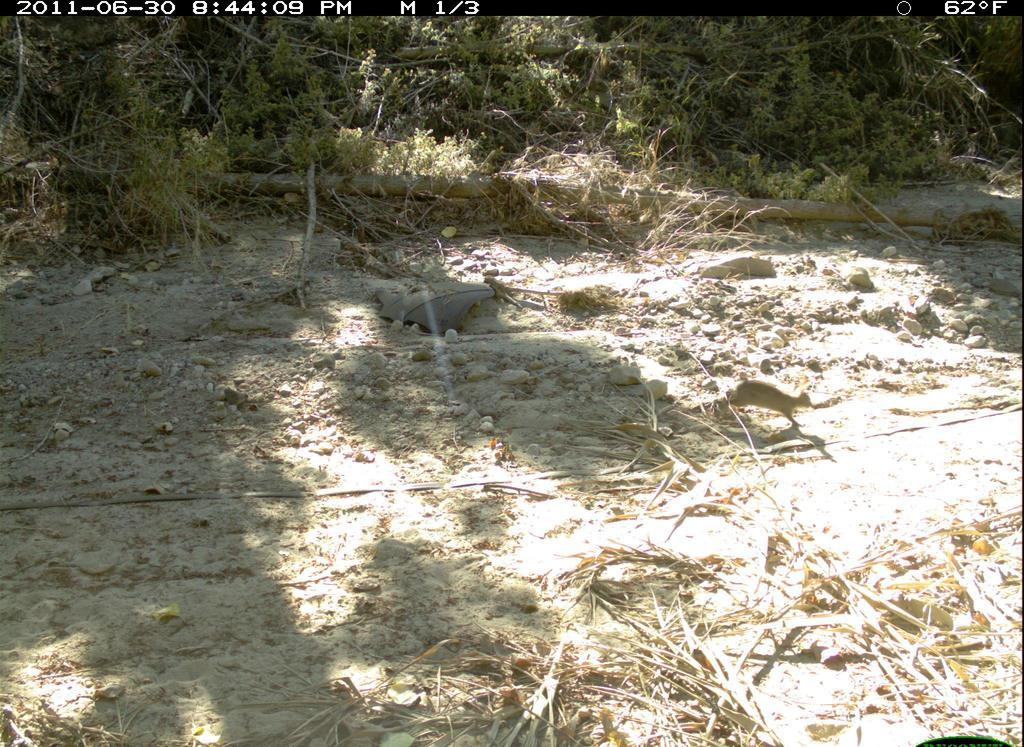rabbit: (717, 365, 825, 436)
